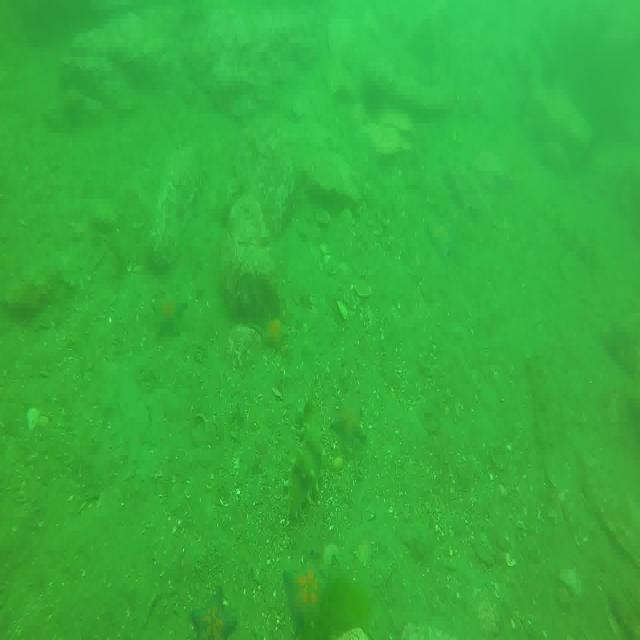holothurian: (283, 414, 326, 526), (553, 200, 606, 270)
starfish: (286, 549, 332, 629), (193, 583, 238, 640), (330, 398, 365, 451), (152, 285, 186, 339), (258, 312, 290, 353)
